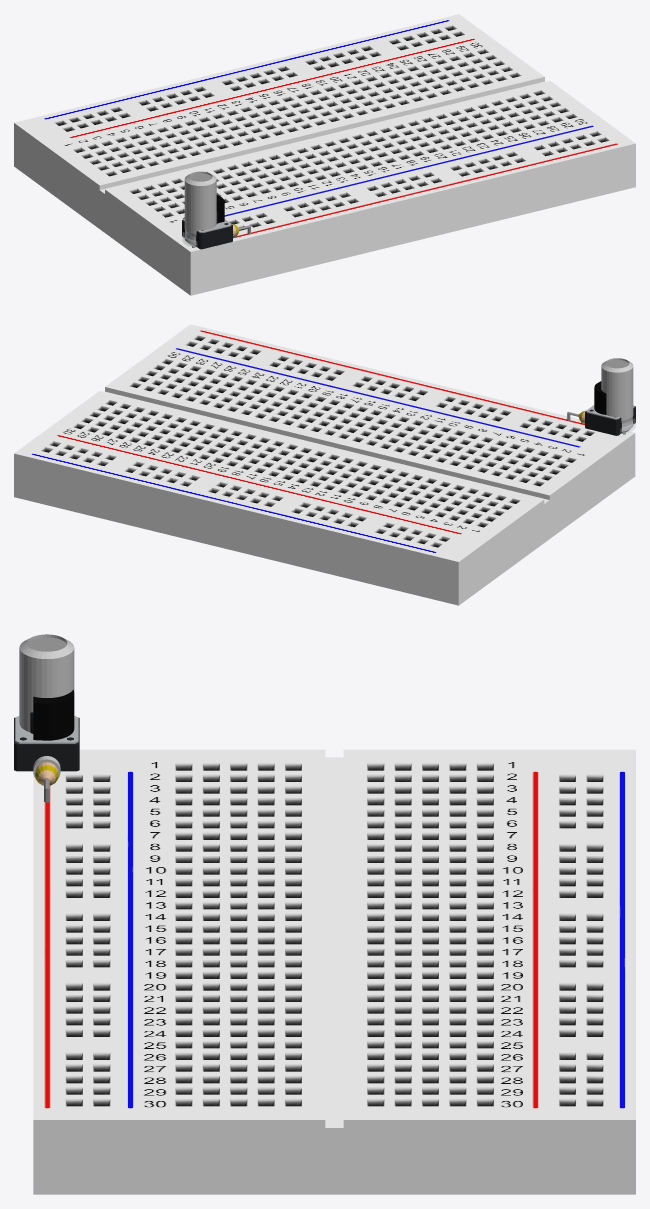
The model's file is Breadboard.fbx.
3 views of the same model, one above another, from view 1: azimuth 30°, elevation 25°; view 2: azimuth 150°, elevation 25°; view 3: azimuth 270°, elevation 25° (orthographic). The views are drawn at different scales.
Visible parts, largest first — view 1: Board, Chemcap, Button; view 2: Board, Chemcap, Button; view 3: Board, Chemcap, Button, Transistor.
Part boxes in pixels (left/top/right/bottom): Board: left=14, top=14, right=635, bottom=295; Chemcap: left=184, top=171, right=216, bottom=246; Button: left=182, top=211, right=232, bottom=249; Board: left=14, top=324, right=635, bottom=605; Chemcap: left=601, top=358, right=633, bottom=433; Button: left=585, top=405, right=635, bottom=435; Board: left=33, top=749, right=635, bottom=1194; Chemcap: left=19, top=634, right=74, bottom=732; Button: left=14, top=712, right=79, bottom=771; Transistor: left=33, top=689, right=74, bottom=740.
Bounding box in the file's own units: 32.15 × 7.75 × 22.7.
